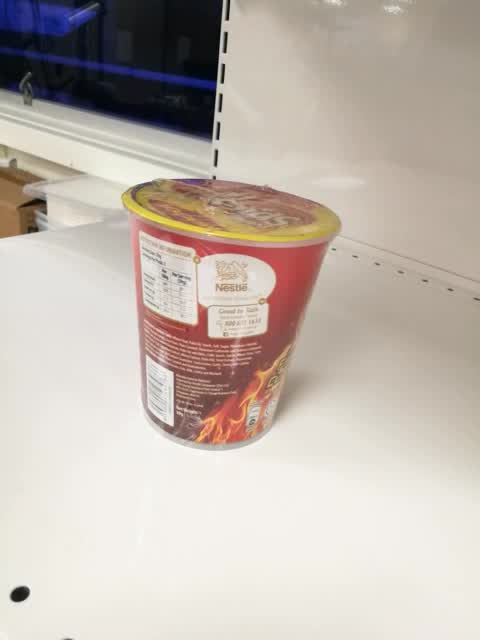maggi: (120, 177, 343, 452)
